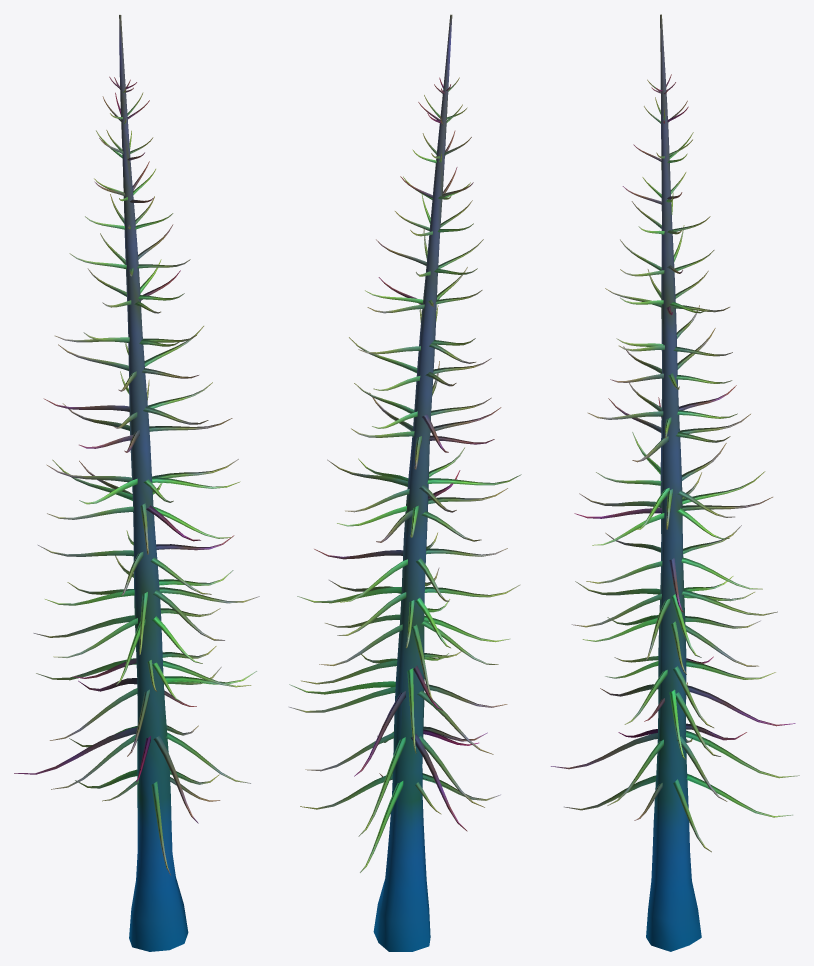
File: spruce-grove-a.glb
The picture shows the model from 3 angles, left to right: view 1: azimuth 30°, elevation 25°; view 2: azimuth 150°, elevation 25°; view 3: azimuth 270°, elevation 25°; orthographic projection. The views are drawn at different scales.
Visible parts, largest first — view 1: bark; view 2: bark; view 3: bark.
Part boxes in pixels (box(x1,y1,x2,y2)): bark: box(14, 15, 259, 951); bark: box(288, 14, 521, 951); bark: box(550, 14, 799, 951).
Bounding box in the file's own units: 4.57 × 19.43 × 4.86.
